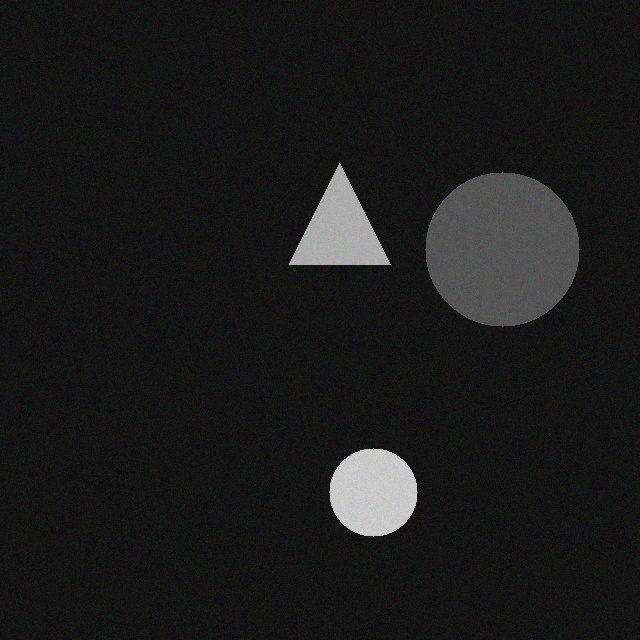circle: (420, 157, 574, 311), (324, 433, 412, 521)
triangle: (284, 148, 385, 249)
